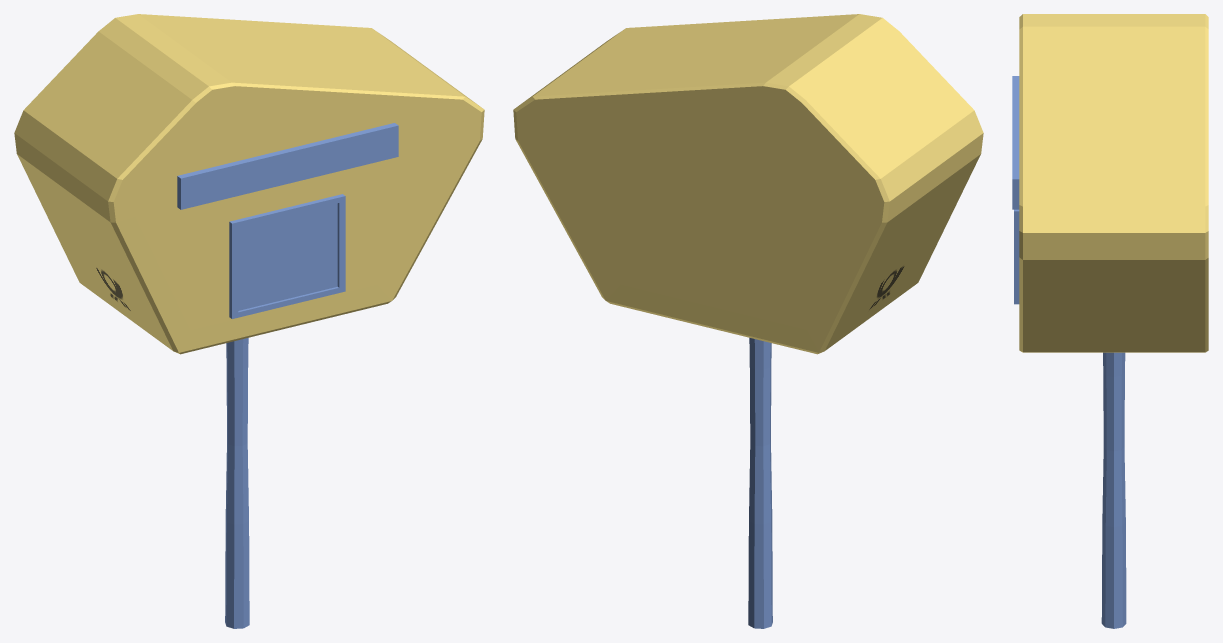
The model's file is Postbox.fbx.
3 renders of one model, left to right at view 1: azimuth 30°, elevation 25°; view 2: azimuth 150°, elevation 25°; view 3: azimuth 270°, elevation 25°, orthographic. The views are drawn at different scales.
Visible parts, largest first — view 1: Pole.001; view 2: Pole.001; view 3: Pole.001.
Boxes of the visible parts, x1=… form: Pole.001: x1=14, y1=14, x2=484, y2=628; Pole.001: x1=513, y1=14, x2=983, y2=628; Pole.001: x1=1012, y1=14, x2=1208, y2=628.
Size of the model in its own units: 346 by 518 by 161.
2 materials, 2 textured.
